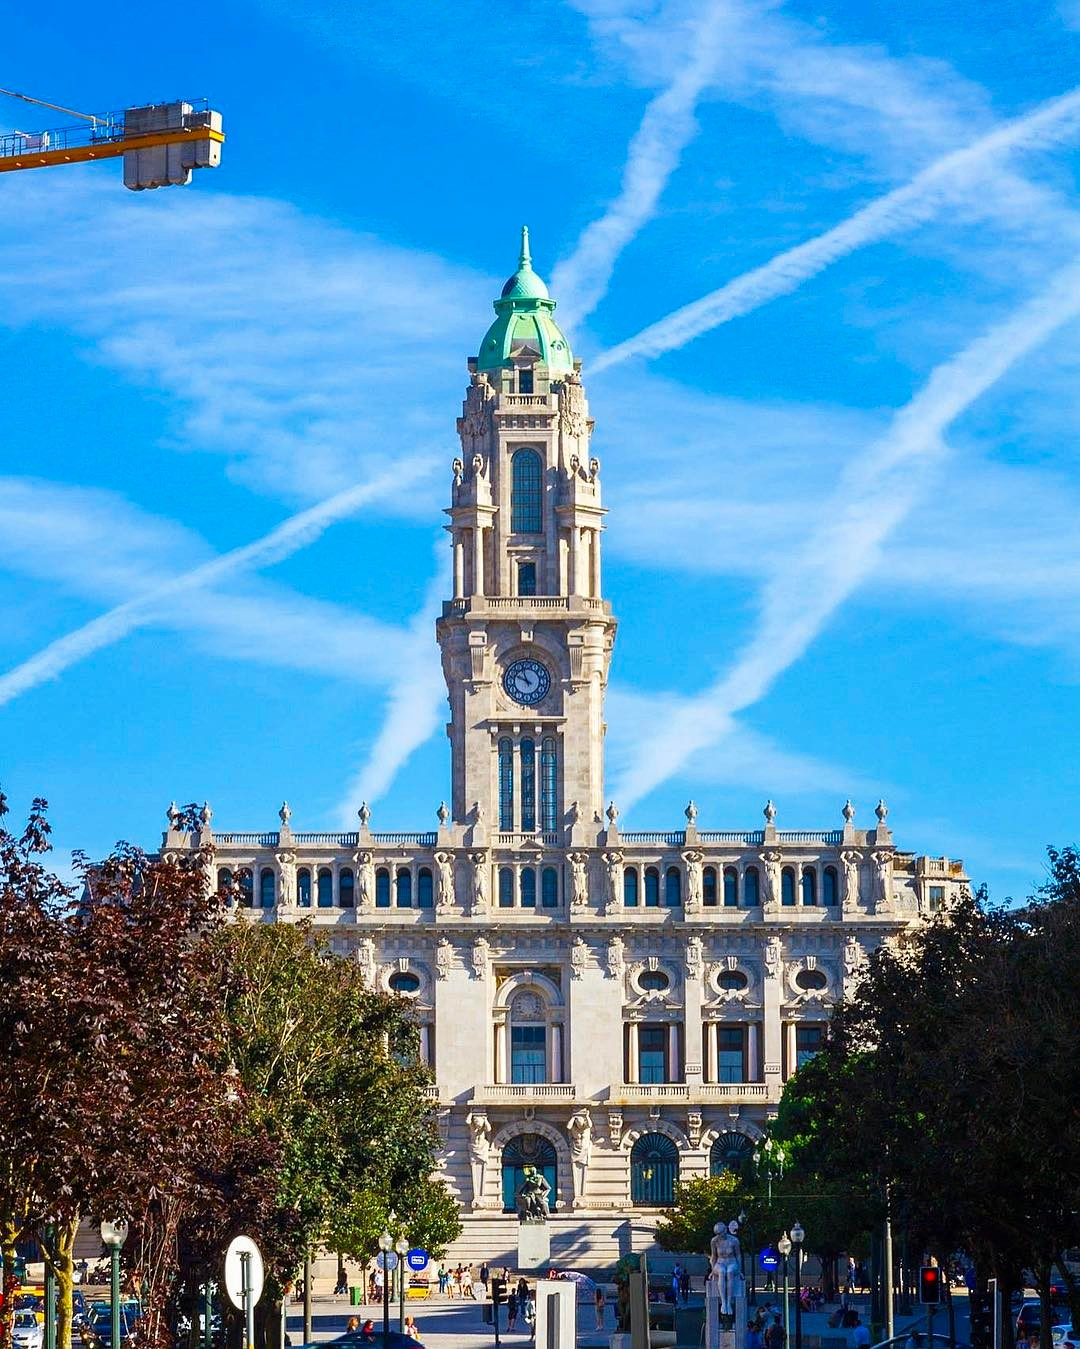camara: (158, 222, 976, 1211)
